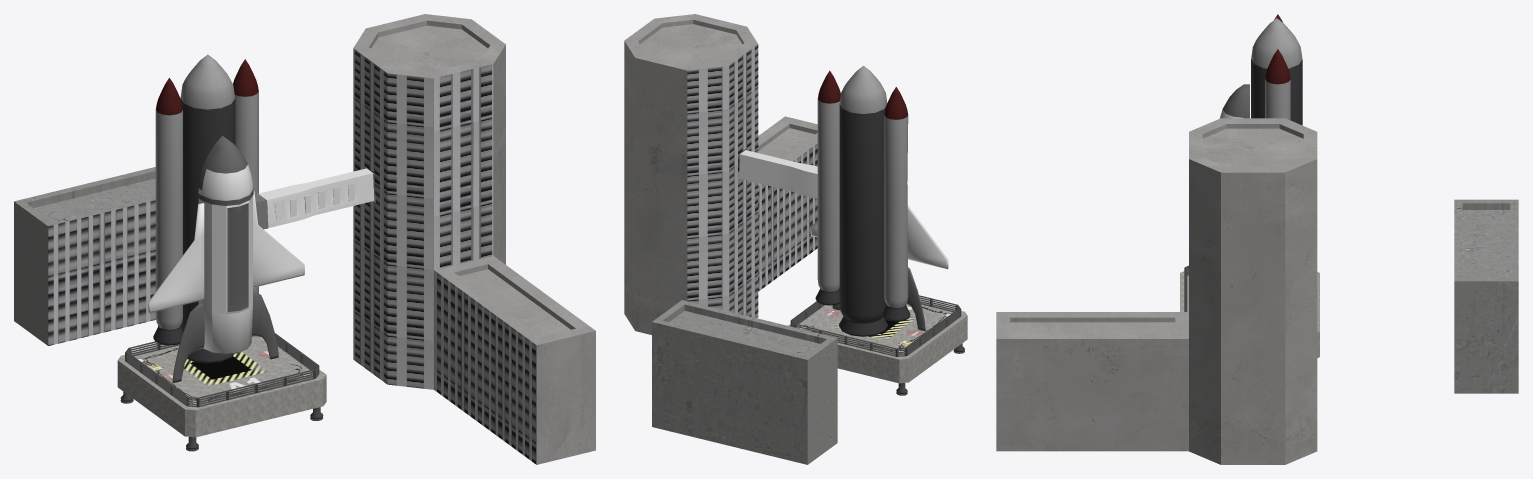
The model's file is vertical_launching_silo.glb.
3 views of the same model, side by side, from view 1: azimuth 30°, elevation 25°; view 2: azimuth 150°, elevation 25°; view 3: azimuth 270°, elevation 25° (orthographic). The views are drawn at different scales.
Parts seen in each view (by area): view 1: Edificio_Grande_Ventanas_0, Edificio_Grande_Cemento_0, Nave_Base_Cabina_0, Propulsores_Nave_Puerta_Rail_Cabina_0, Plataforma_Plataforma_Lanzamiento_0, object 3, Pasarela_Entrada_0, Pasarela_Luz_Puerta_Embarque_0; view 2: object 3, Edificio_Grande_Cemento_0, Edificio_Grande_Ventanas_0, Propulsores_Nave_Puerta_Rail_Cabina_0, Plataforma_Plataforma_Lanzamiento_0, Pasarela_Entrada_0, Nave_Base_Cabina_0; view 3: Edificio_Grande_Cemento_0, object 3, Propulsores_Nave_Puerta_Rail_Cabina_0, Nave_Base_Cabina_0, Plataforma_Plataforma_Lanzamiento_0.
Part boxes in pixels (box(x1,y1,x2,y2)): Edificio_Grande_Ventanas_0: box(48, 48, 536, 464); Edificio_Grande_Cemento_0: box(353, 14, 595, 464); Nave_Base_Cabina_0: box(148, 135, 304, 382); Propulsores_Nave_Puerta_Rail_Cabina_0: box(153, 54, 258, 363); Plataforma_Plataforma_Lanzamiento_0: box(117, 333, 326, 451); object 3: box(14, 167, 155, 345); Pasarela_Entrada_0: box(254, 168, 374, 229); Pasarela_Luz_Puerta_Embarque_0: box(275, 183, 354, 220); object 3: box(652, 300, 837, 464); Edificio_Grande_Cemento_0: box(624, 14, 817, 334); Edificio_Grande_Ventanas_0: box(687, 44, 817, 317); Propulsores_Nave_Puerta_Rail_Cabina_0: box(815, 66, 910, 336); Plataforma_Plataforma_Lanzamiento_0: box(788, 295, 967, 395); Pasarela_Entrada_0: box(739, 150, 817, 198); Nave_Base_Cabina_0: box(811, 205, 948, 330); Edificio_Grande_Cemento_0: box(996, 118, 1317, 464); object 3: box(1454, 199, 1518, 393); Propulsores_Nave_Puerta_Rail_Cabina_0: box(1251, 14, 1302, 125); Nave_Base_Cabina_0: box(1219, 84, 1249, 118); Plataforma_Plataforma_Lanzamiento_0: box(1180, 265, 1319, 357).
Size of the model in its own units: 0.719 by 0.6846 by 1.
8 materials, 7 textured.
